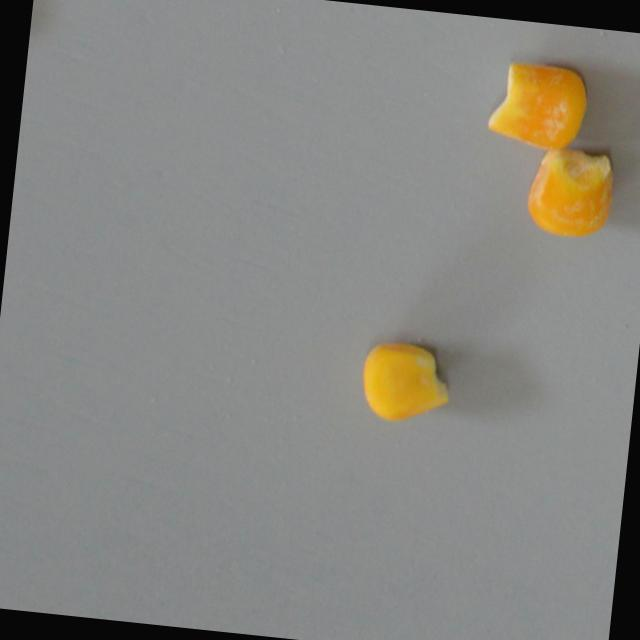no_canjicado: (356, 337, 453, 428)
pelicula: (485, 58, 591, 152), (523, 145, 617, 242)
